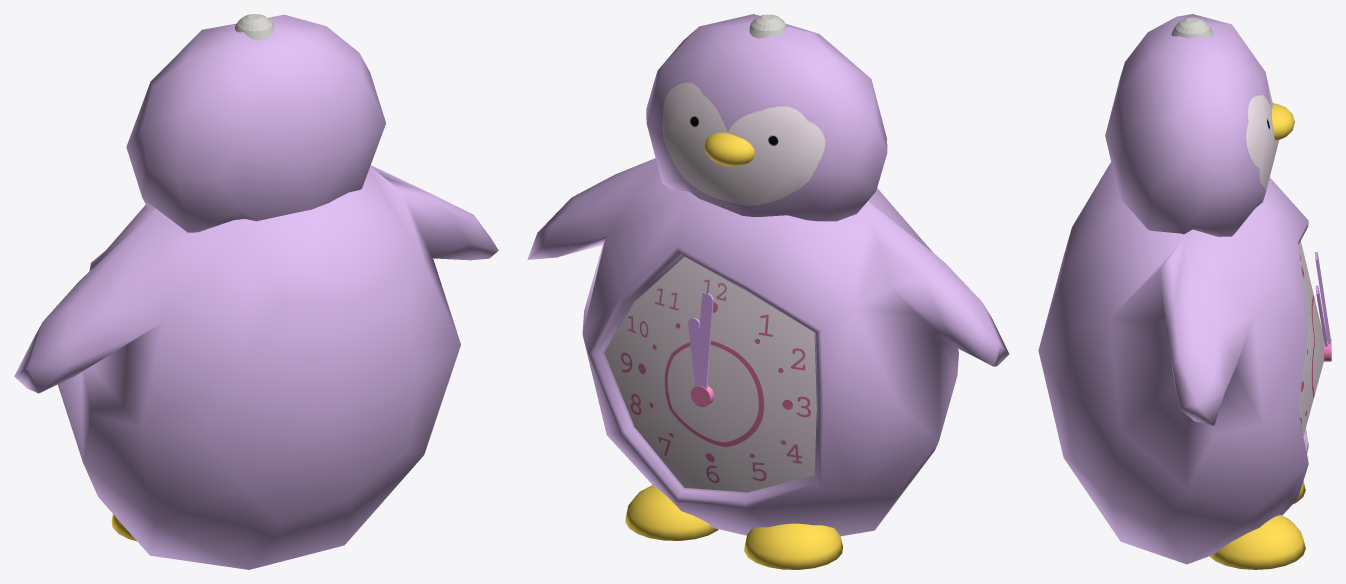
Rendered from alarm_clock.fbx.
The picture shows the model from 3 angles, left to right: view 1: azimuth 30°, elevation 25°; view 2: azimuth 150°, elevation 25°; view 3: azimuth 270°, elevation 25°; orthographic projection. The views are drawn at different scales.
Parts seen in each view (by area): view 1: defaultMaterial.008, defaultMaterial.006, defaultMaterial; view 2: defaultMaterial.008, defaultMaterial.006, defaultMaterial.007, defaultMaterial.004, defaultMaterial.002, defaultMaterial; view 3: defaultMaterial.008, defaultMaterial.006, defaultMaterial.004, defaultMaterial.007, defaultMaterial, defaultMaterial.002.
Boxes of the visible parts, box(x1,y1,x2,y2) form: defaultMaterial.008: box(14, 165, 498, 569); defaultMaterial.006: box(126, 14, 385, 232); defaultMaterial: box(234, 14, 274, 40); defaultMaterial.008: box(527, 158, 1009, 536); defaultMaterial.006: box(646, 14, 887, 221); defaultMaterial.007: box(604, 256, 816, 492); defaultMaterial.004: box(625, 132, 842, 569); defaultMaterial.002: box(695, 293, 713, 388); defaultMaterial: box(749, 14, 787, 38); defaultMaterial.008: box(1038, 162, 1308, 564); defaultMaterial.006: box(1105, 14, 1279, 236); defaultMaterial.004: box(1209, 103, 1305, 569); defaultMaterial.007: box(1298, 241, 1324, 436); defaultMaterial: box(1171, 17, 1213, 38); defaultMaterial.002: box(1314, 252, 1330, 344).
Size of the model in its own units: 0.1948 by 0.2035 by 0.1073.
Materials: 8 (8 with a texture image).
